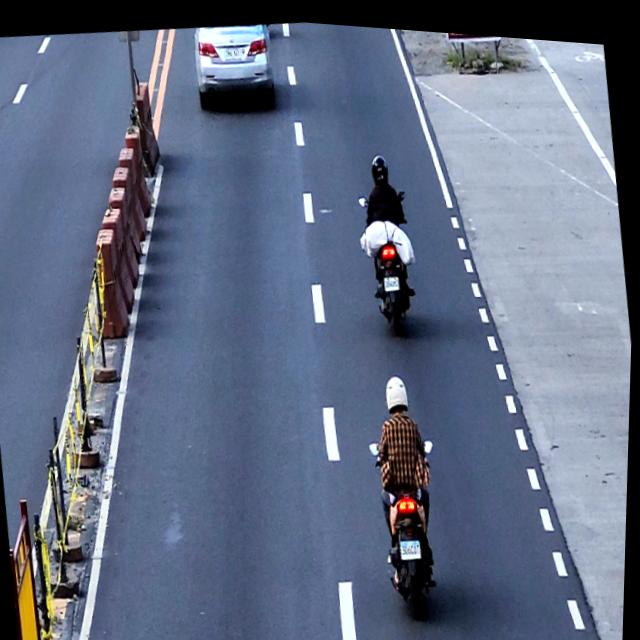Car: (190, 15, 281, 115)
License-Plate: (402, 533, 425, 554), (223, 42, 242, 58), (385, 269, 401, 285)
Motorcycle: (366, 422, 456, 620), (356, 181, 425, 329)
